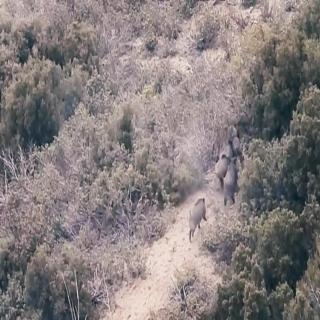Pig: (227, 153, 259, 220), (184, 194, 211, 260), (210, 135, 232, 193), (230, 121, 240, 149)
